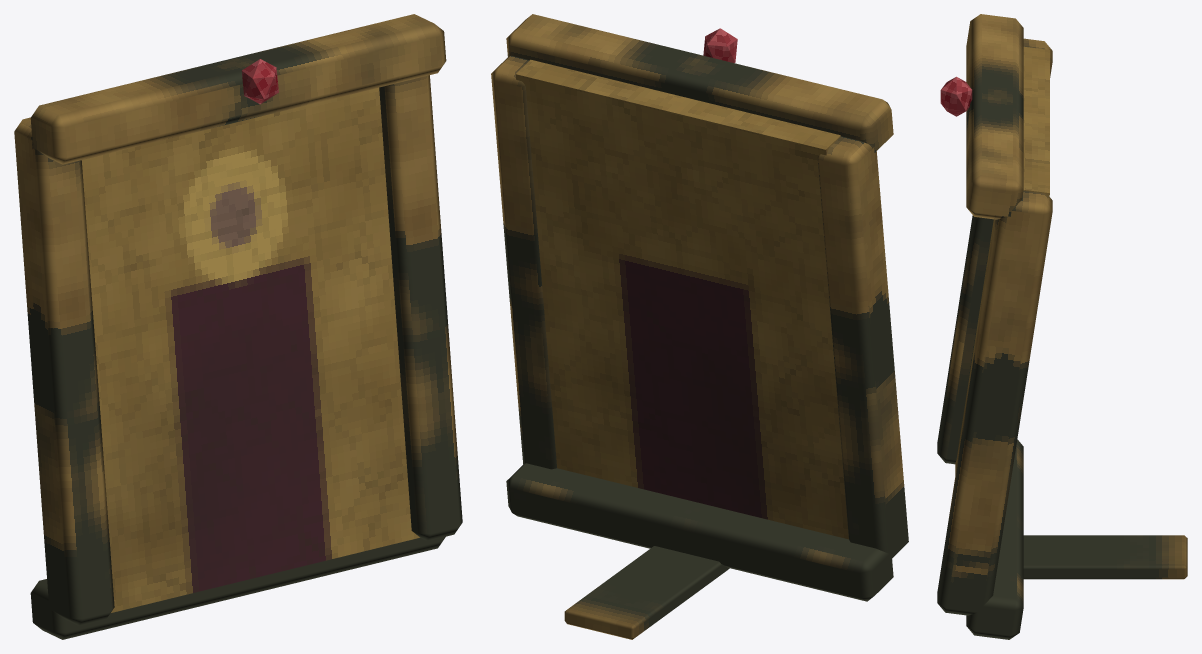
File: icon.glb
3 views of the same model, side by side, from view 1: azimuth 30°, elevation 25°; view 2: azimuth 150°, elevation 25°; view 3: azimuth 270°, elevation 25° (orthographic). The views are drawn at different scales.
Visible parts, largest first — view 1: icon; view 2: icon; view 3: icon.
Part boxes in pixels (x1,y1,x2,y2): icon: (14, 14, 462, 639); icon: (491, 14, 908, 639); icon: (937, 14, 1187, 639).
Bounding box in the file's own units: 0.26 × 0.3494 × 0.1624.
1 material, 1 textured.
